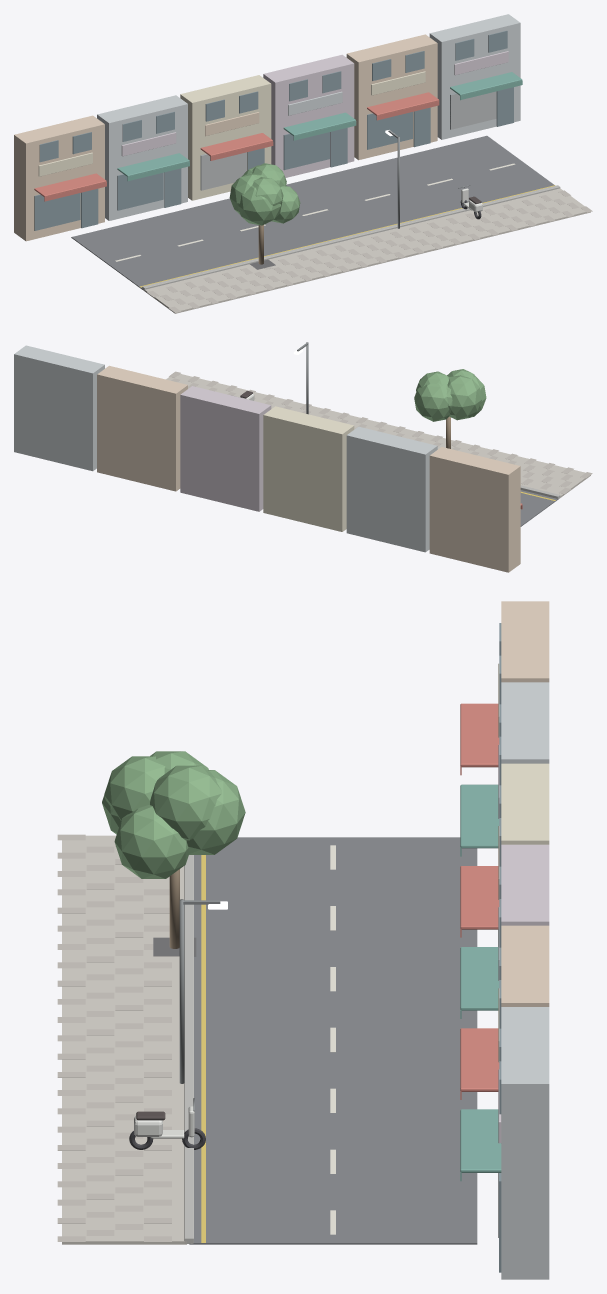
Rendered from clinic_street.glb.
The picture shows the model from 3 angles, top to bottom: view 1: azimuth 30°, elevation 25°; view 2: azimuth 150°, elevation 25°; view 3: azimuth 270°, elevation 25°; orthographic projection. The views are drawn at different scales.
Parts seen in each view (by area): view 1: clinic_street; view 2: clinic_street; view 3: clinic_street.
Part boxes in pixels (x1,y1,x2,y2): clinic_street: (14, 14, 592, 313); clinic_street: (14, 342, 592, 572); clinic_street: (57, 601, 549, 1279).
Bounding box in the file's own units: 23.8 × 4.58 × 10.24.
